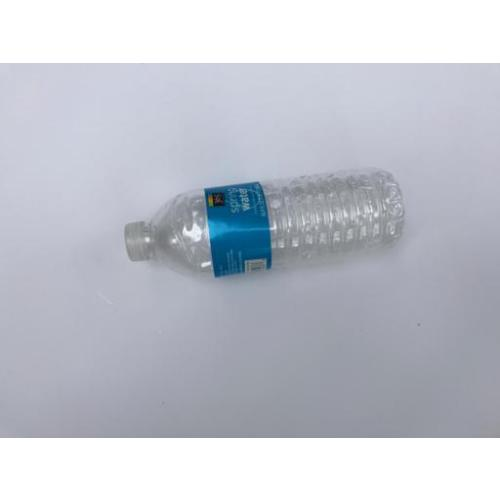plastic: (124, 169, 404, 280)
